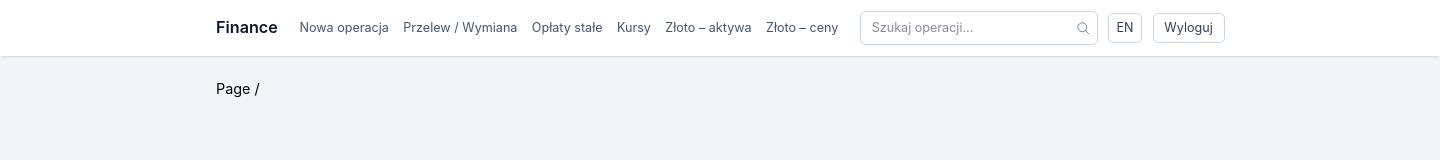
Test: Layout › closes the menu once one of its pages opens, and marks that page
Earlier steps of the test are not shown.
Click the link "Przelew / Wymiana" at coordinates (460, 28), box left=403, top=19, right=518, bottom=37
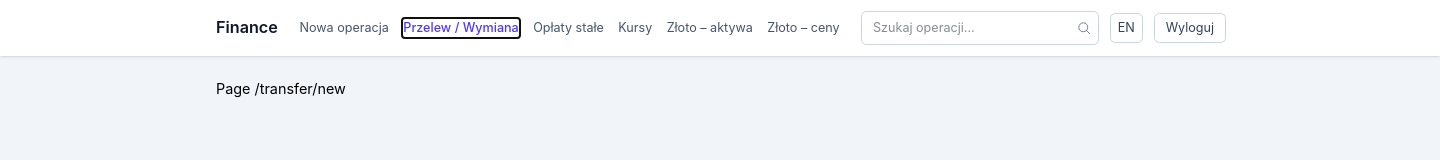
Now the text "Page /transfer/new" is shown, box left=216, top=80, right=346, bottom=96
